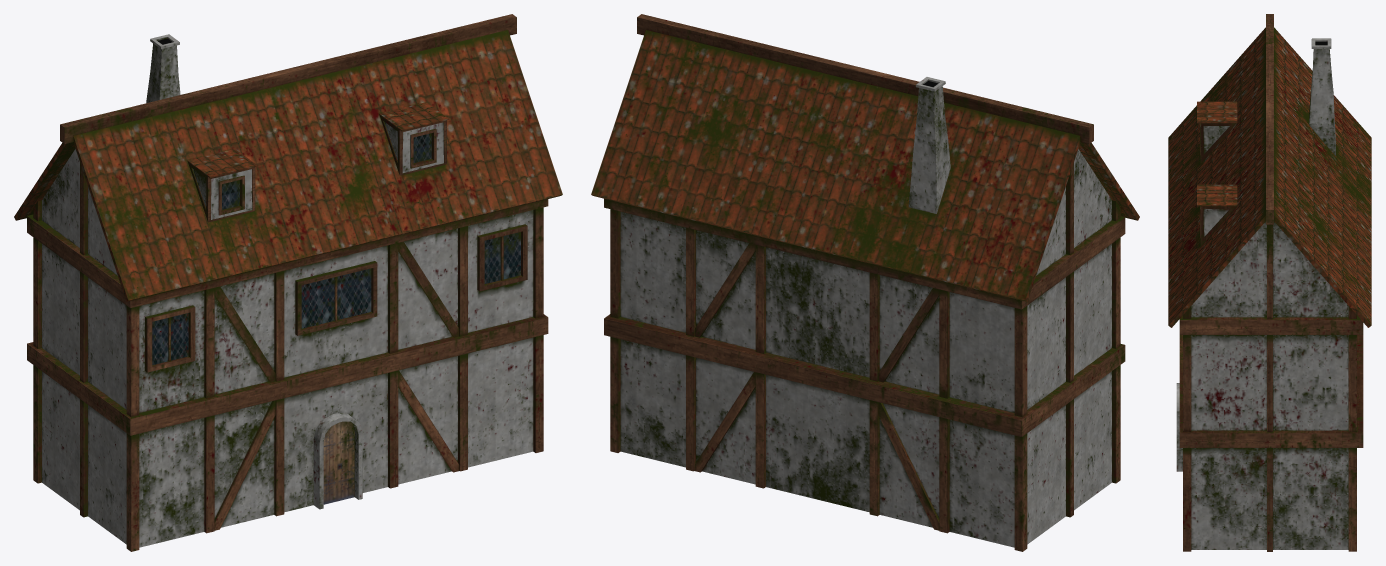
Rendered from HouseC.gltf.
The picture shows the model from 3 angles, left to right: view 1: azimuth 30°, elevation 25°; view 2: azimuth 150°, elevation 25°; view 3: azimuth 270°, elevation 25°; orthographic projection. The views are drawn at different scales.
Parts seen in each view (by area): view 1: House3_House3_M_0; view 2: House3_House3_M_0; view 3: House3_House3_M_0.
Boxes of the visible parts, bbox=[...] form: House3_House3_M_0: bbox=[14, 14, 562, 551]; House3_House3_M_0: bbox=[591, 14, 1139, 551]; House3_House3_M_0: bbox=[1168, 14, 1371, 551].
Bounding box in the file's own units: 80.16 × 72.34 × 35.13.
Materials: 1 (1 with a texture image).
